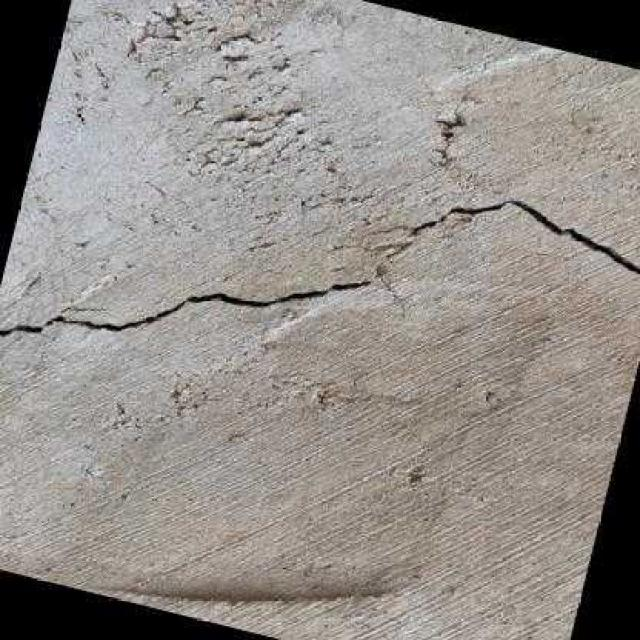D00: (0, 200, 640, 336)
